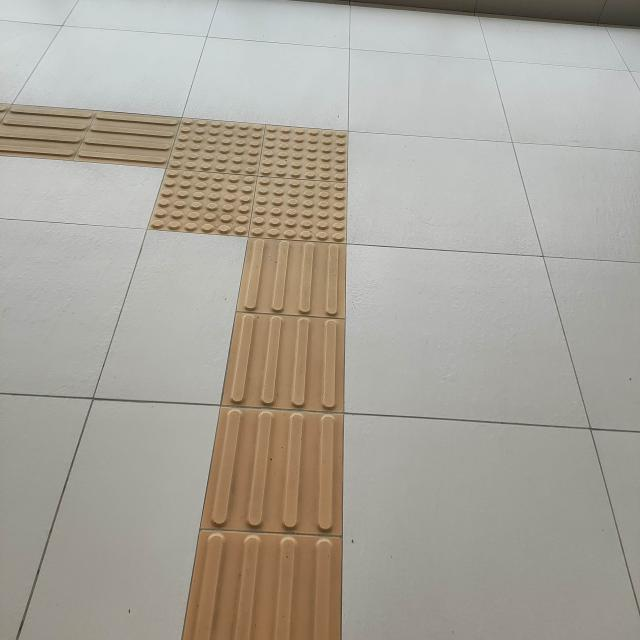kiri: (0, 56, 393, 256)
